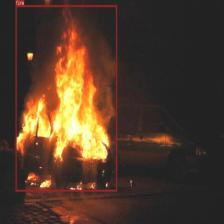fire: (16, 5, 116, 191)
